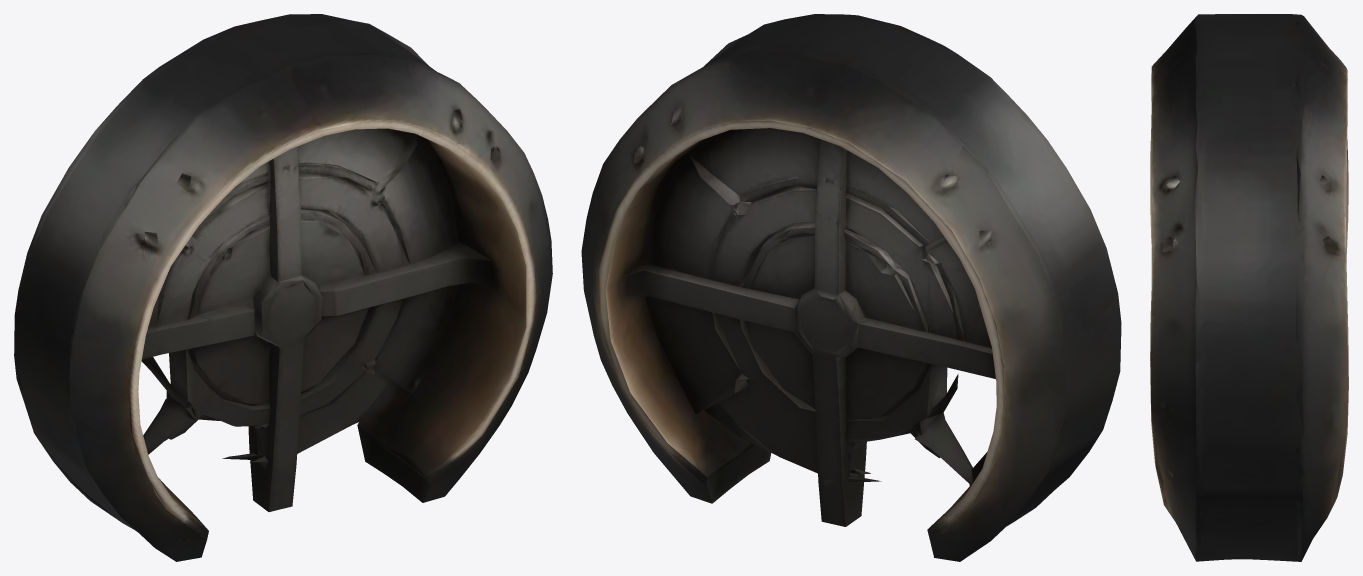
File: m2VaultWallBg.glb
3 renders of one model, left to right at view 1: azimuth 30°, elevation 25°; view 2: azimuth 150°, elevation 25°; view 3: azimuth 270°, elevation 25°, orthographic. The views are drawn at different scales.
Parts seen in each view (by area): view 1: model; view 2: model; view 3: model.
Boxes of the visible parts, box(x1,y1,x2,y2) form: model: box(14, 14, 552, 561); model: box(581, 14, 1121, 561); model: box(1150, 14, 1348, 561).
Size of the model in its own units: 1.9 by 1.77 by 0.6924.
Materials: 1 (1 with a texture image).
